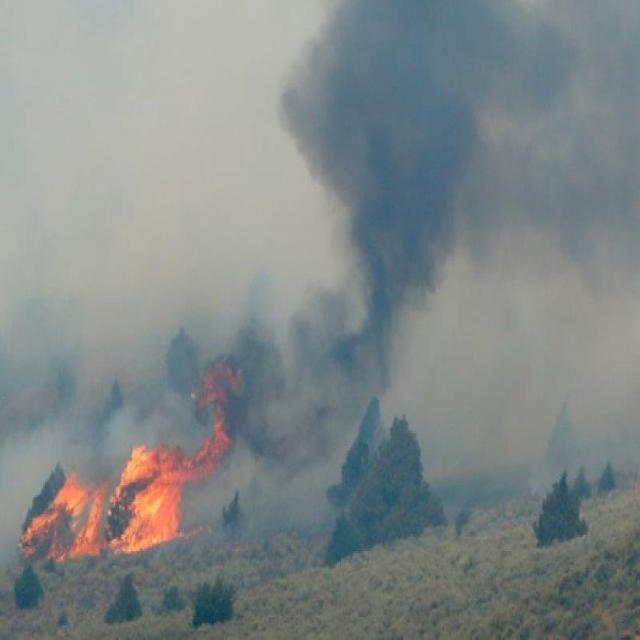Fire: (104, 429, 223, 552), (24, 472, 102, 555)
